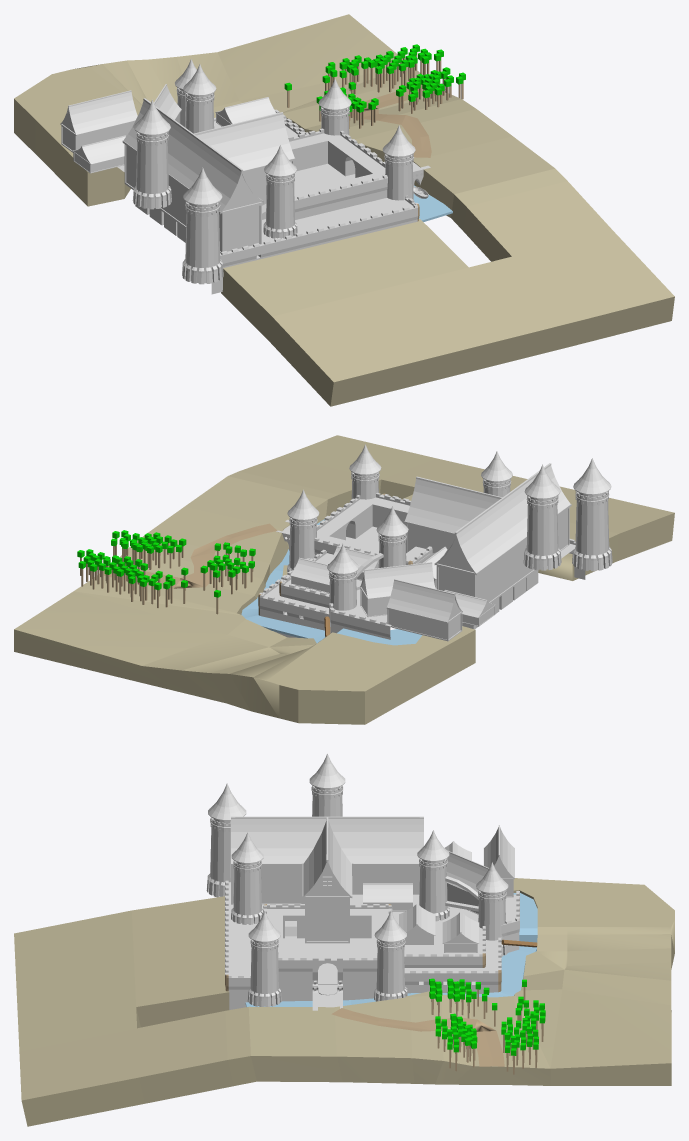
Rendered from Castle.fbx.
3 views of the same model, one above another, from view 1: azimuth 30°, elevation 25°; view 2: azimuth 150°, elevation 25°; view 3: azimuth 270°, elevation 25° (orthographic). The views are drawn at different scales.
Visible parts, largest first — view 1: ChapterOneFullBlockout, tower.007, castle, tower.006, tower.005, floor, tower.004, tower.002, tower.003, tower; view 2: ChapterOneFullBlockout, tower.007, castle, tower.006, tower.005, tower, tower.001, tower.003, floor, tower.002, tower.004; view 3: ChapterOneFullBlockout, tower.007, castle, floor, tower.002, tower.004, tower.006, tower, tower.003, tower.001, tower.005, bridge.
Part boxes in pixels (x1=…): ChapterOneFullBlockout: x1=14, y1=14, x2=674, y2=406; tower.007: x1=60, y1=84, x2=295, y2=252; castle: x1=135, y1=107, x2=419, y2=294; tower.006: x1=182, y1=167, x2=223, y2=284; tower.005: x1=132, y1=99, x2=171, y2=209; floor: x1=117, y1=121, x2=413, y2=254; tower.004: x1=263, y1=145, x2=297, y2=238; tower.002: x1=382, y1=125, x2=415, y2=200; tower.003: x1=183, y1=64, x2=216, y2=133; tower: x1=318, y1=78, x2=351, y2=135; ChapterOneFullBlockout: x1=14, y1=435, x2=674, y2=724; tower.007: x1=290, y1=463, x2=571, y2=641; castle: x1=258, y1=492, x2=585, y2=639; tower.006: x1=572, y1=458, x2=612, y2=571; tower.005: x1=523, y1=464, x2=561, y2=570; tower: x1=287, y1=489, x2=319, y2=572; tower.001: x1=327, y1=543, x2=358, y2=626; tower.003: x1=376, y1=506, x2=408, y2=567; floor: x1=264, y1=526, x2=575, y2=627; tower.002: x1=349, y1=444, x2=381, y2=499; tower.004: x1=481, y1=451, x2=512, y2=497; ChapterOneFullBlockout: x1=14, y1=878, x2=674, y2=1126; tower.007: x1=231, y1=816, x2=514, y2=952; castle: x1=225, y1=880, x2=519, y2=1009; floor: x1=228, y1=882, x2=516, y2=976; tower.002: x1=247, y1=910, x2=281, y2=1006; tower.004: x1=231, y1=832, x2=263, y2=924; tower.006: x1=206, y1=783, x2=246, y2=897; tower: x1=374, y1=911, x2=407, y2=1001; tower.003: x1=417, y1=830, x2=449, y2=921; tower.001: x1=476, y1=862, x2=508, y2=956; tower.005: x1=309, y1=753, x2=345, y2=816; bridge: x1=312, y1=980, x2=342, y2=1010.
Bounding box in the file's own units: 28449 × 13479 × 41001.
